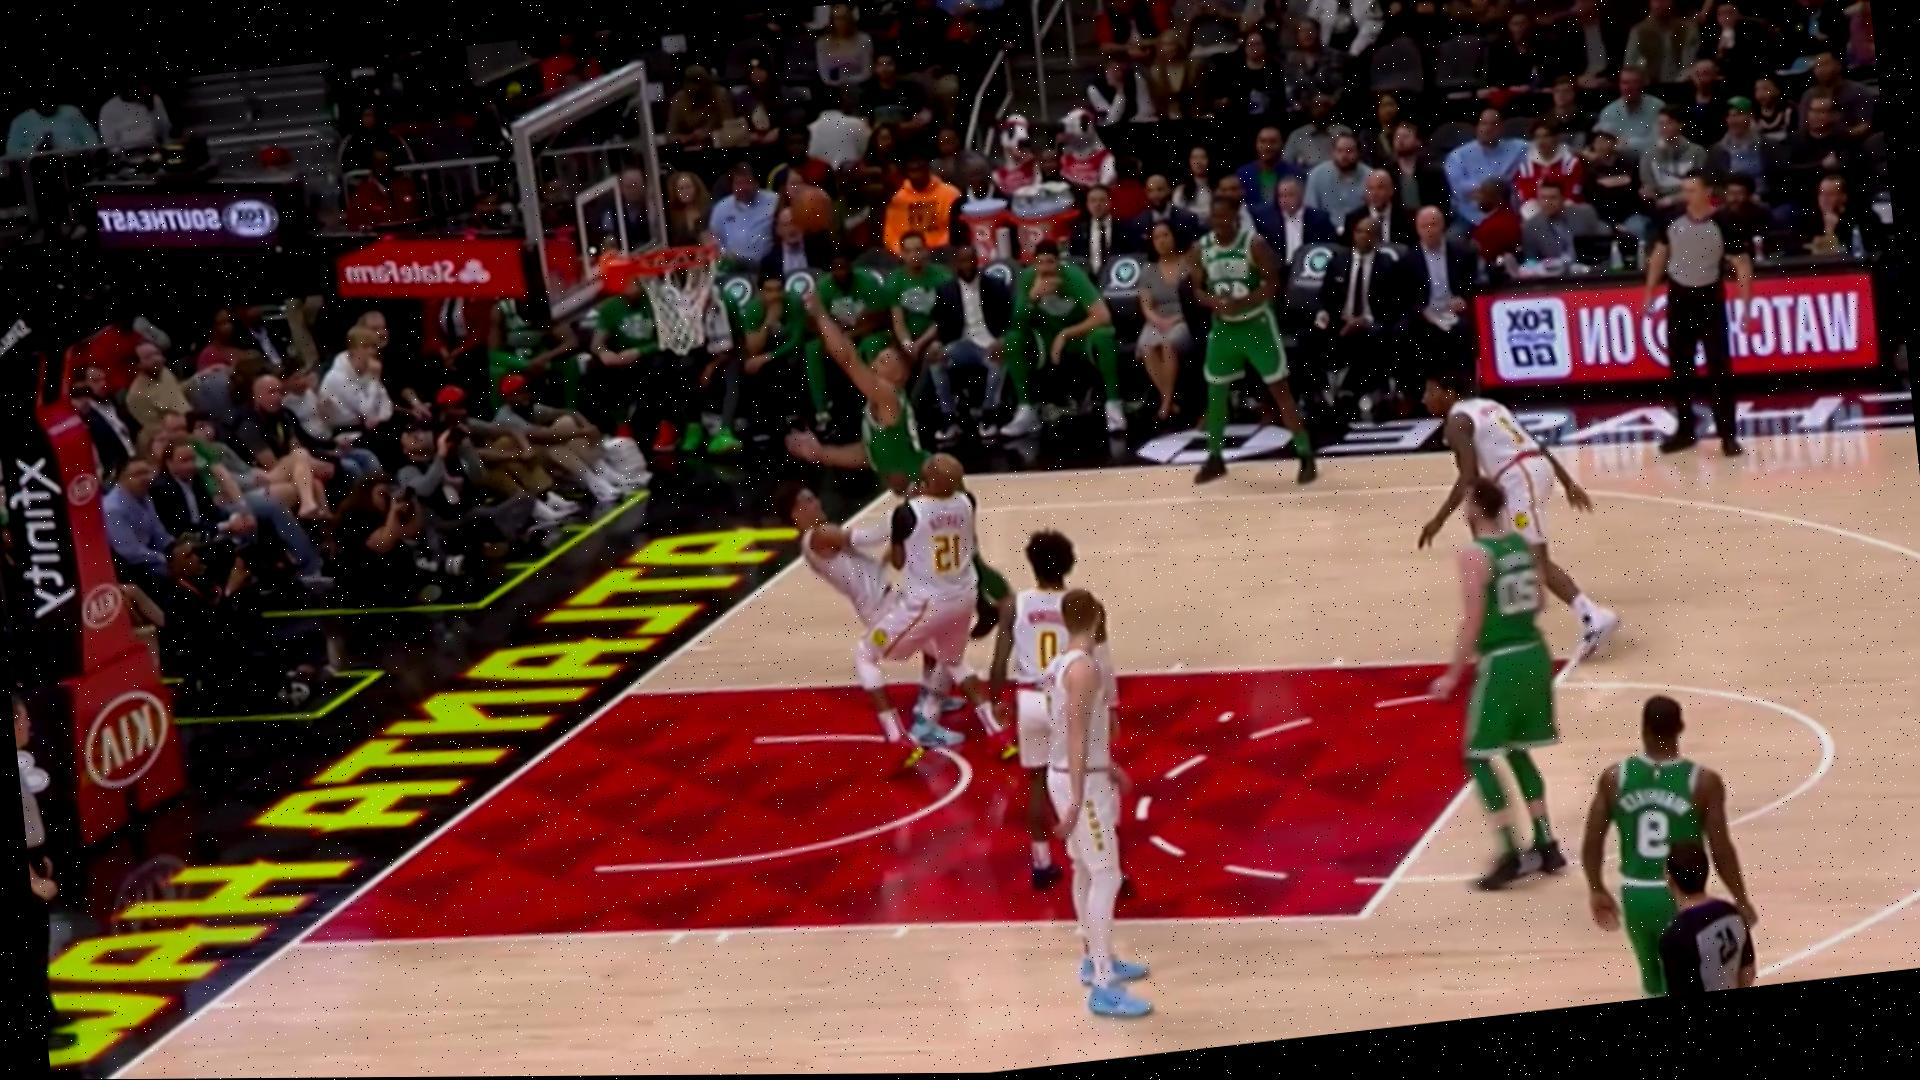foul: (769, 332, 942, 645)
